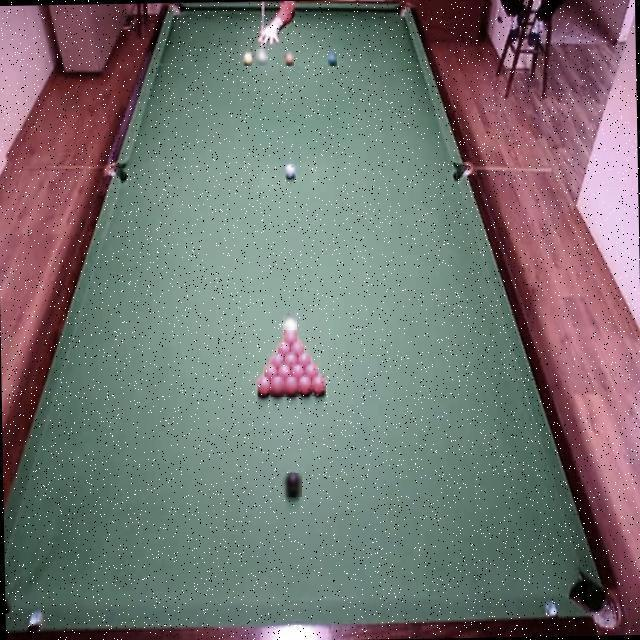Ball: (282, 473, 302, 497), (284, 376, 299, 397), (312, 374, 326, 396), (257, 376, 270, 395), (271, 378, 284, 397), (283, 313, 297, 330), (298, 376, 311, 394), (256, 49, 268, 66), (304, 363, 318, 377), (243, 49, 254, 66), (284, 330, 297, 344), (270, 353, 283, 367), (278, 363, 290, 378), (285, 162, 296, 178), (290, 365, 303, 378), (278, 342, 290, 356), (285, 352, 297, 366), (264, 365, 275, 380), (299, 353, 311, 365), (291, 342, 302, 355), (284, 52, 294, 66), (328, 53, 337, 66)
